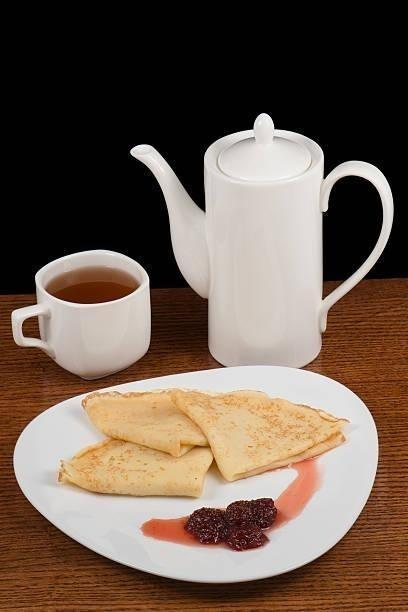cup-handle: (10, 248, 152, 381)
